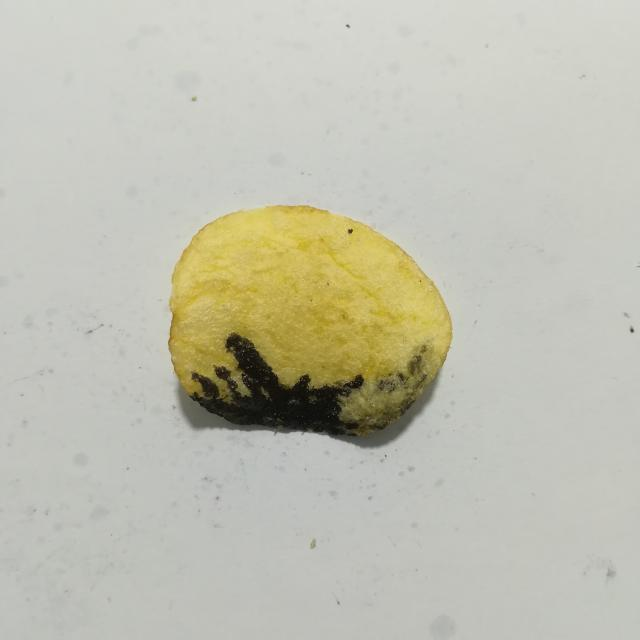chip: (169, 206, 452, 434)
damaged: (188, 332, 364, 437)
semi-damaged: (339, 343, 434, 436)
